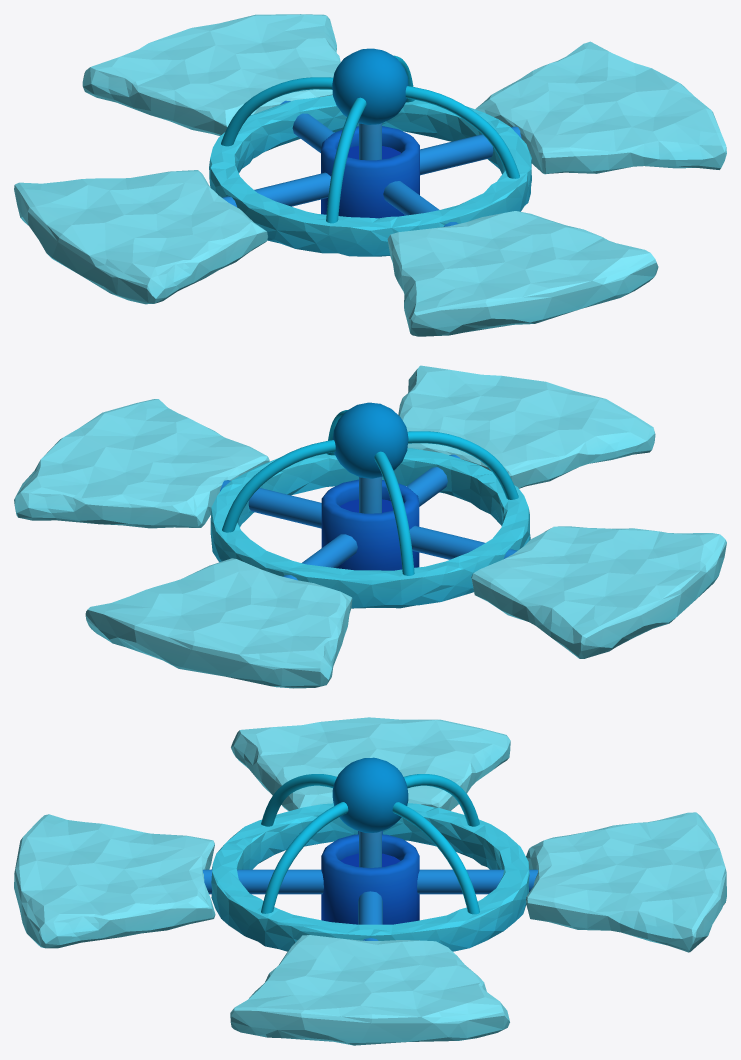
Rendered from obstacle_1_001.fbx.
3 views of the same model, one above another, from view 1: azimuth 30°, elevation 25°; view 2: azimuth 150°, elevation 25°; view 3: azimuth 270°, elevation 25° (orthographic).
Parts seen in each view (by area): view 1: obstacle_1_001; view 2: obstacle_1_001; view 3: obstacle_1_001.
Part boxes in pixels (bbox=[...]): obstacle_1_001: bbox=[14, 14, 726, 336]; obstacle_1_001: bbox=[14, 365, 726, 688]; obstacle_1_001: bbox=[14, 717, 726, 1045].
Bounding box in the file's own units: 1897 × 1897 × 530.
